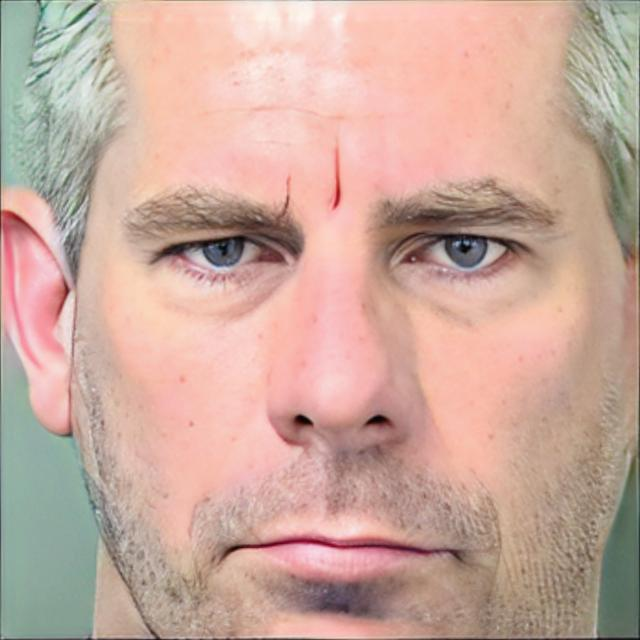anger: (75, 37, 607, 640)
